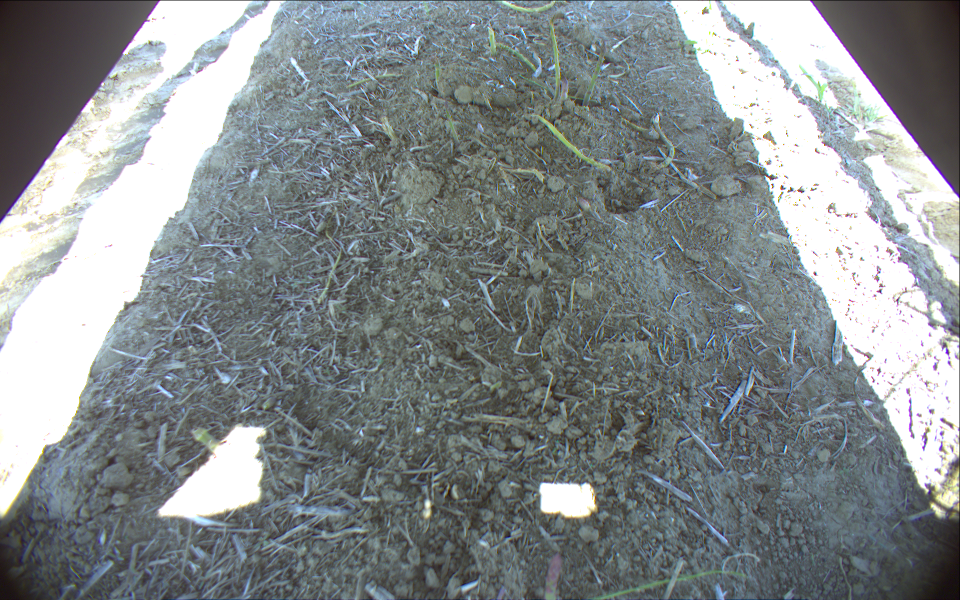aspa: (578, 44, 609, 110), (545, 21, 565, 103)
